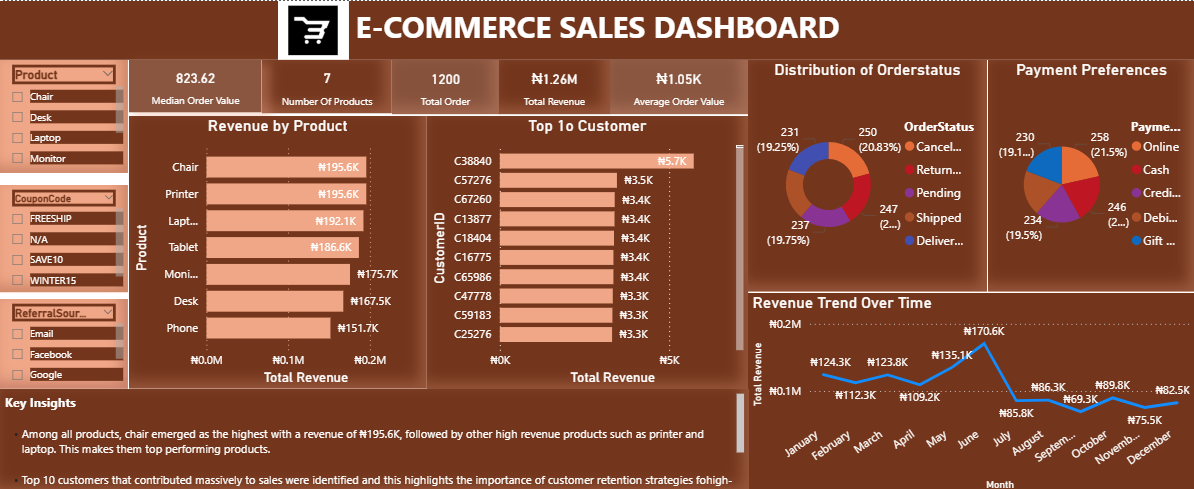

The dashboard page shown, as its layout file describes it:
{"tool":"powerbi","page":{"name":"Page 1","canvas":[1280,720],"ordinal":0},"visuals":[{"type":"textbox","box":[0,0,1280,63.5],"z":0},{"type":"card","fields":{"Values":["Cleaned.Total Order"]},"box":[419.9,63.2,114.6,57.8],"z":1000},{"type":"card","fields":{"Values":["Cleaned.Total Revenue"]},"box":[534.5,63.2,118.9,57.8],"z":2000},{"type":"card","fields":{"Values":["Cleaned.Average Order Value"]},"box":[653.4,63.2,147.8,57.8],"z":3000},{"type":"card","fields":{"Values":["Cleaned.Number Of Products"]},"box":[280.6,63.2,139.2,56.8],"z":4000},{"type":"card","fields":{"Values":["Cleaned.Median Order Value"]},"box":[138.2,63.2,142.5,55.7],"z":5000},{"type":"slicer","fields":{"Values":["Cleaned.Product"]},"box":[0,63.2,137.1,121],"z":6000},{"type":"slicer","fields":{"Values":["Cleaned.ReferralSource"]},"box":[0,319.7,136.7,96.4],"z":7000},{"type":"slicer","fields":{"Values":["Cleaned.CouponCode"]},"box":[0,197.1,137.1,114.6],"z":8000},{"type":"barChart","title":"Revenue by Product","fields":{"Category":["Cleaned.Product"],"Y":["Cleaned.Total Revenue"]},"box":[138.2,123.2,319.2,292.4],"z":9000},{"type":"barChart","title":"Top 1o Customer","fields":{"Category":["Cleaned.CustomerID"],"Y":["Cleaned.Total Revenue"]},"box":[457.6,123.2,344.1,292.9],"z":10000},{"type":"pieChart","title":"Payment Preferences","fields":{"Category":["Cleaned.PaymentMethod"],"Y":["Cleaned.Payment Count"]},"box":[1057.9,63.5,222.1,247.7],"z":11000},{"type":"donutChart","title":"Distribution of Orderstatus","fields":{"Category":["Cleaned.OrderStatus"],"Y":["Cleaned.Total Order"]},"box":[801.7,63.5,256.2,247.7],"z":12000},{"type":"lineChart","title":"Revenue Trend Over Time","fields":{"Category":["Cleaned.Date.Variation.Date Hierarchy.Month"],"Y":["Cleaned.Total Revenue"]},"box":[801.7,312.4,478.3,216],"z":13000},{"type":"textbox","box":[0,416.1,801.7,112.3],"z":16000},{"type":"image","box":[297.7,0,75.7,63.5],"z":16001}]}

Visuals, with their boxes on the page's 1280x720 design canvas (x1, y1, x2, y2). These are canvas units, not pixel positions in the 1194x489 screenshot, which may show the page scaled, cropped or inside an application window:
textbox: rect(0, 0, 1280, 64)
card - Cleaned.Total Order: rect(420, 63, 534, 121)
card - Cleaned.Total Revenue: rect(534, 63, 653, 121)
card - Cleaned.Average Order Value: rect(653, 63, 801, 121)
card - Cleaned.Number Of Products: rect(281, 63, 420, 120)
card - Cleaned.Median Order Value: rect(138, 63, 281, 119)
slicer - Cleaned.Product: rect(0, 63, 137, 184)
slicer - Cleaned.ReferralSource: rect(0, 320, 137, 416)
slicer - Cleaned.CouponCode: rect(0, 197, 137, 312)
"Revenue by Product" barChart: rect(138, 123, 457, 416)
"Top 1o Customer" barChart: rect(458, 123, 802, 416)
"Payment Preferences" pieChart: rect(1058, 64, 1280, 311)
"Distribution of Orderstatus" donutChart: rect(802, 64, 1058, 311)
"Revenue Trend Over Time" lineChart: rect(802, 312, 1280, 528)
textbox: rect(0, 416, 802, 528)
image: rect(298, 0, 373, 64)
